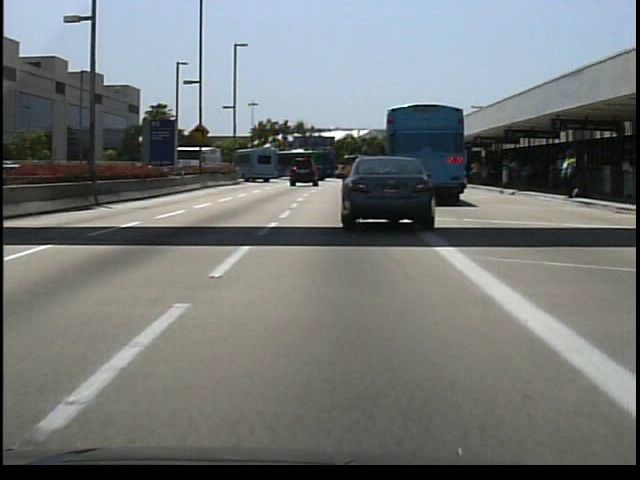person: (557, 150, 580, 201)
